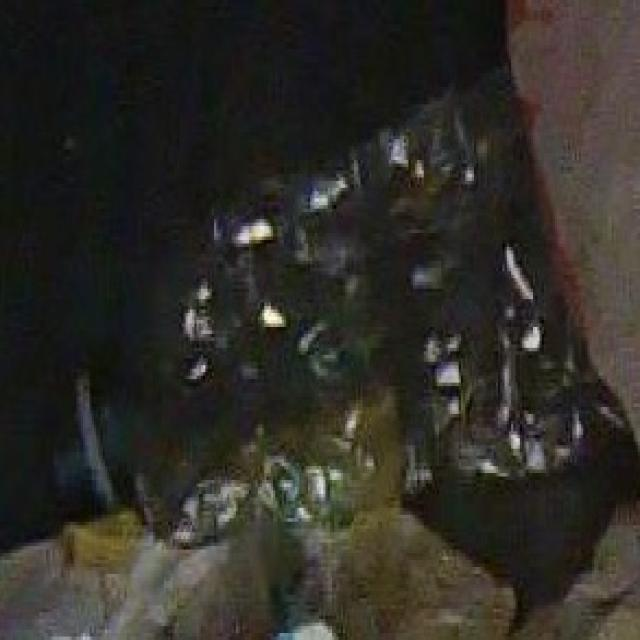litter: (49, 85, 599, 498)
